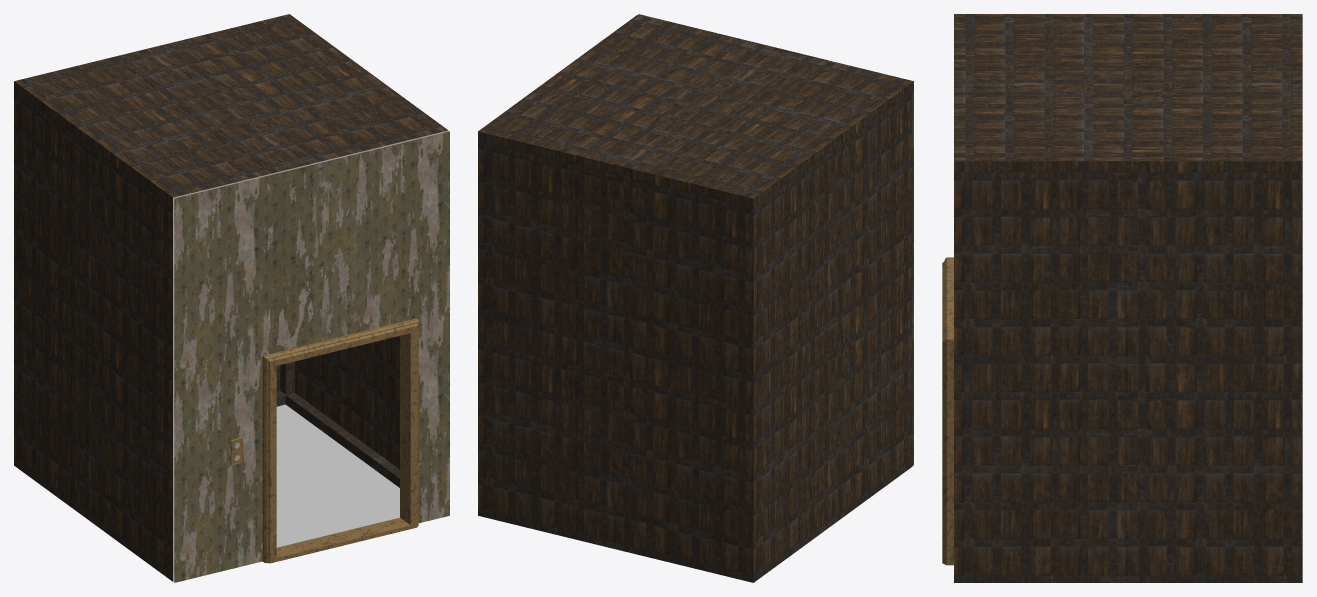
Rendered from SM_Elevator.fbx.
3 views of the same model, side by side, from view 1: azimuth 30°, elevation 25°; view 2: azimuth 150°, elevation 25°; view 3: azimuth 270°, elevation 25° (orthographic). The views are drawn at different scales.
Visible parts, largest first — view 1: SM_Elevator; view 2: SM_Elevator; view 3: SM_Elevator.
Part boxes in pixels (bbox=[...]): SM_Elevator: bbox=[14, 14, 449, 582]; SM_Elevator: bbox=[478, 14, 913, 582]; SM_Elevator: bbox=[942, 14, 1302, 582].
Size of the model in its own units: 300 by 400 by 310.
